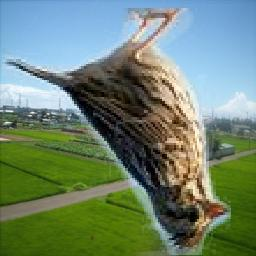Sparrow: (3, 9, 232, 256)
